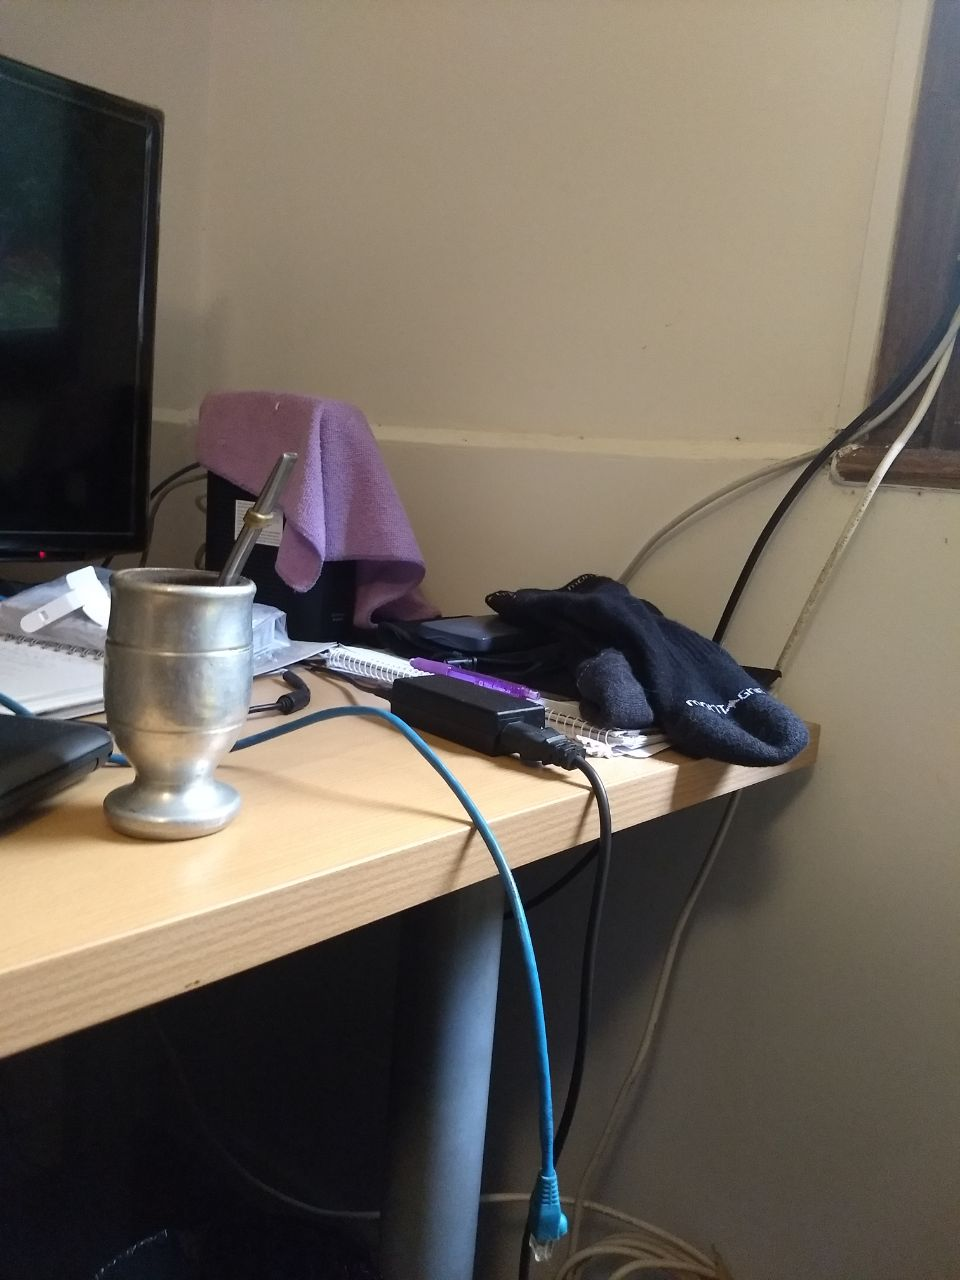mate: (95, 450, 303, 848)
metal: (93, 447, 301, 846)
